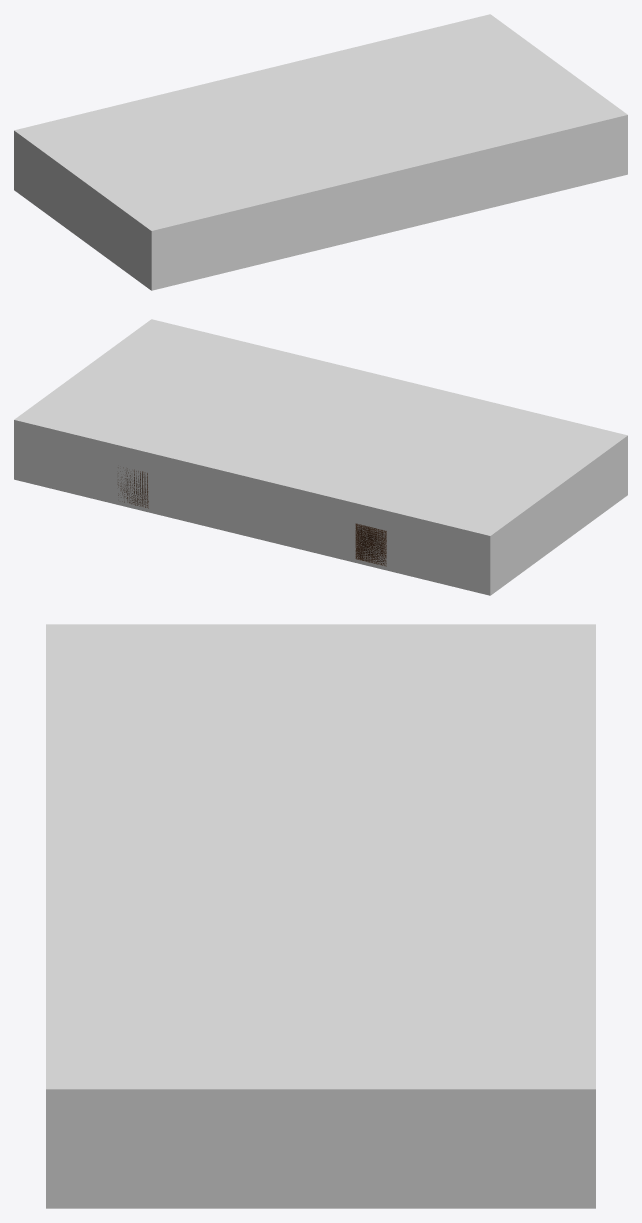
File: house_floor_half.glb
3 views of the same model, one above another, from view 1: azimuth 30°, elevation 25°; view 2: azimuth 150°, elevation 25°; view 3: azimuth 270°, elevation 25° (orthographic). The views are drawn at different scales.
Visible parts, largest first — view 1: COL_house_floor_half_static_00; view 2: COL_house_floor_half_static_00, house_floor_half_static; view 3: COL_house_floor_half_static_00.
Part boxes in pixels (x1,y1,x2,y2): COL_house_floor_half_static_00: [14, 14, 627, 290]; COL_house_floor_half_static_00: [14, 319, 627, 595]; house_floor_half_static: [117, 467, 386, 566]; COL_house_floor_half_static_00: [46, 624, 595, 1208].
Bounding box in the file's own units: 2 × 0.24 × 1.
Materials: 2 (2 with a texture image).
